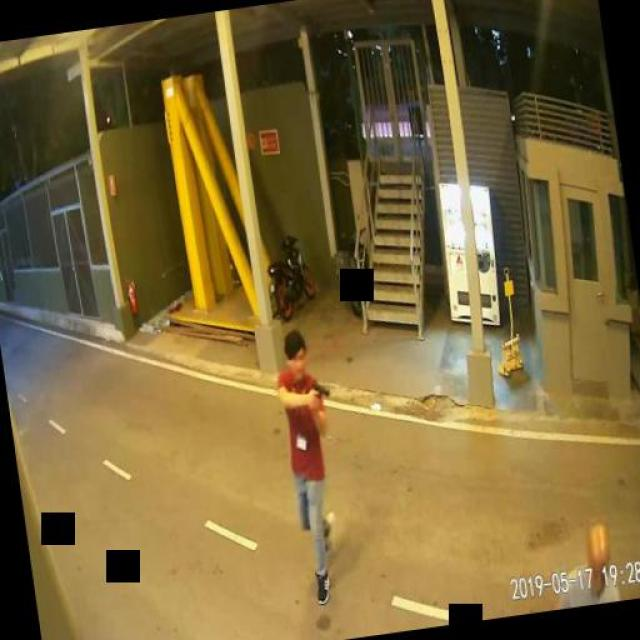gun: (308, 376, 330, 405)
